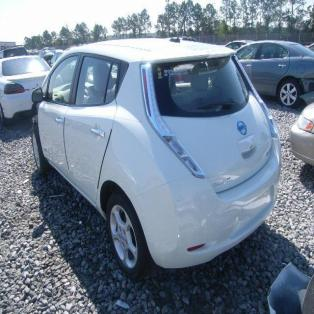Auto: (30, 37, 282, 284)
